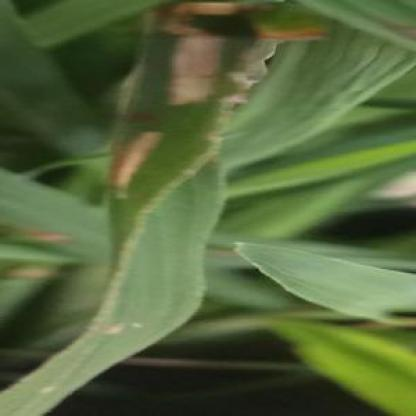Rice blast: (150, 17, 251, 118), (97, 119, 165, 212)
